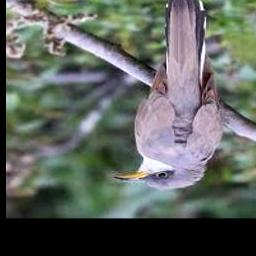Cuckoo: (114, 0, 224, 191)
